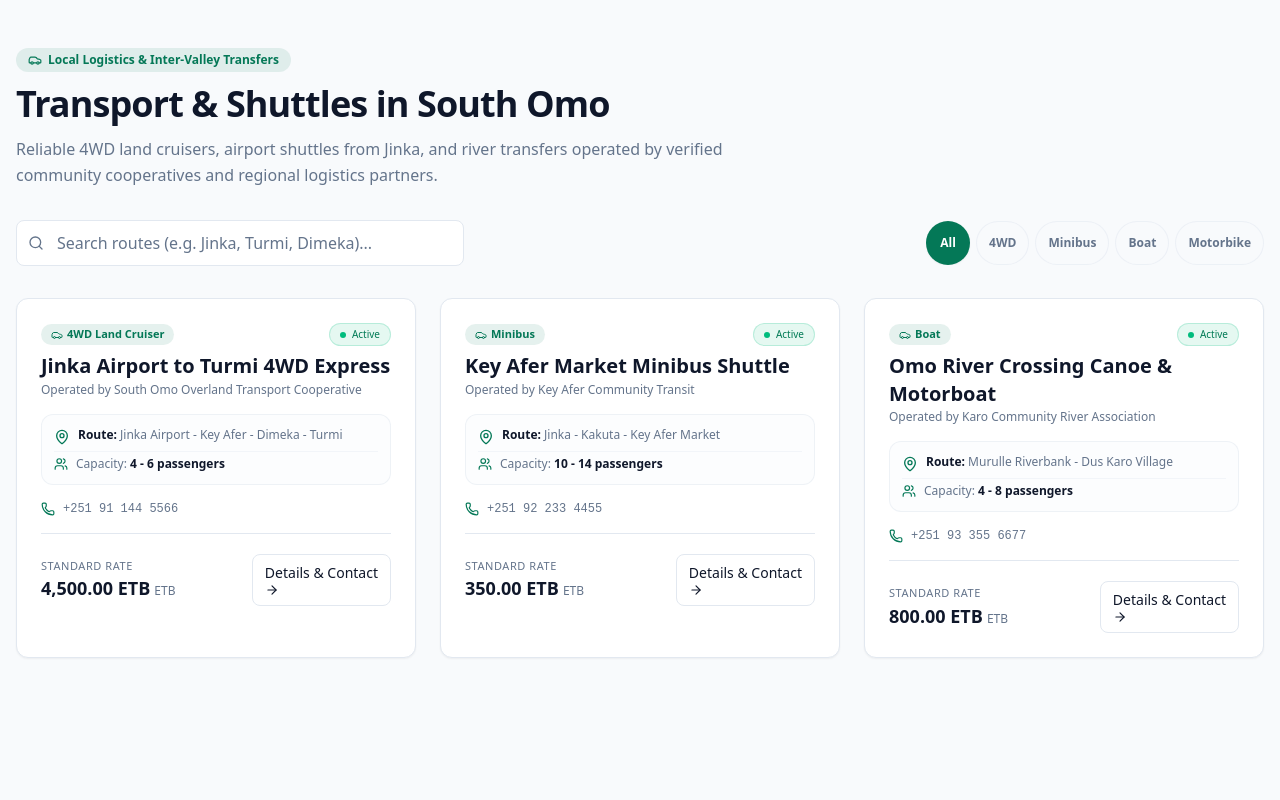
Transport services (F-306) › opens detail modal with operator contact and travel notes
Click the button with test id "view-transport-btn-tr-1". click: click(321, 580)
box: [252,554,391,606]
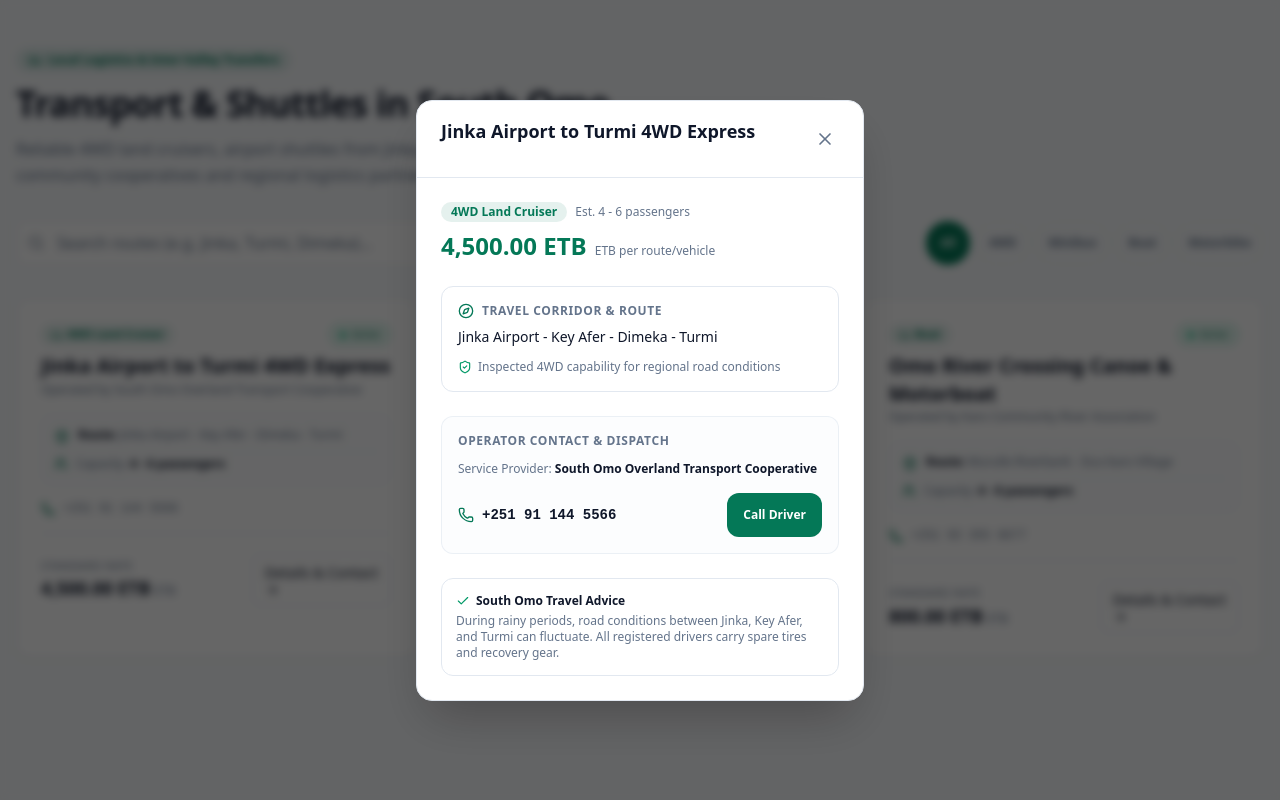
Check: the element with test id "transport-detail-modal" is shown, box [441,202,839,676]
Check: the text "South Omo Overland Transport Cooperative" is shown, box [555,460,817,476]
Check: the link "Call Driver" is shown, box [727,492,822,536]
